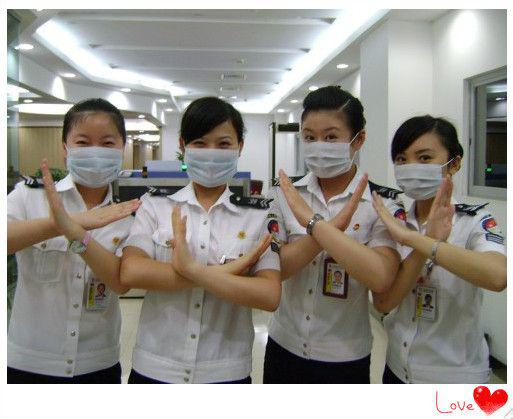OK: (69, 131, 131, 193), (186, 131, 238, 186), (304, 127, 356, 176), (398, 149, 447, 198)
